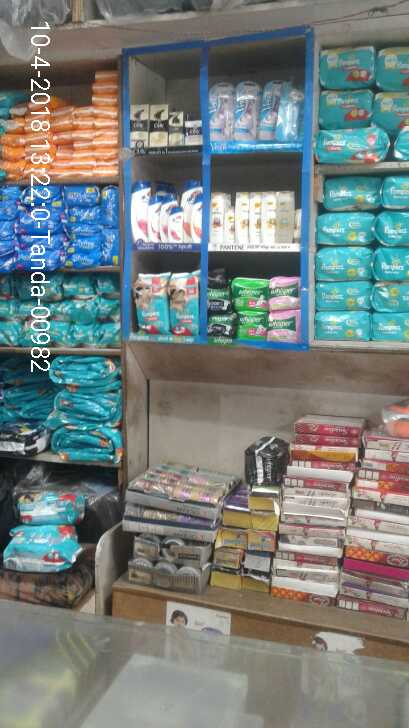venus: (233, 81, 261, 141), (277, 81, 305, 141), (209, 81, 233, 141), (261, 81, 277, 141)
